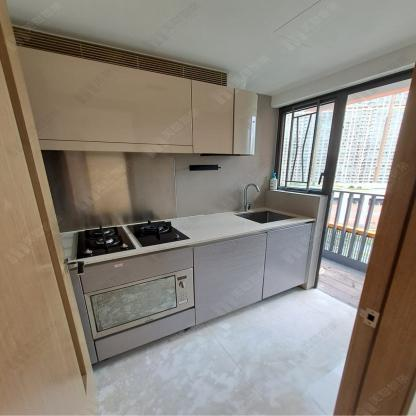Cupboard: (19, 43, 260, 158), (16, 45, 257, 157), (194, 220, 322, 328)
Faucet: (241, 182, 260, 210)
Microwave: (90, 268, 197, 339)
Oven: (83, 266, 195, 341)
Sink: (226, 209, 315, 230), (236, 208, 296, 224)
Stove: (71, 218, 202, 264), (71, 218, 192, 258)
